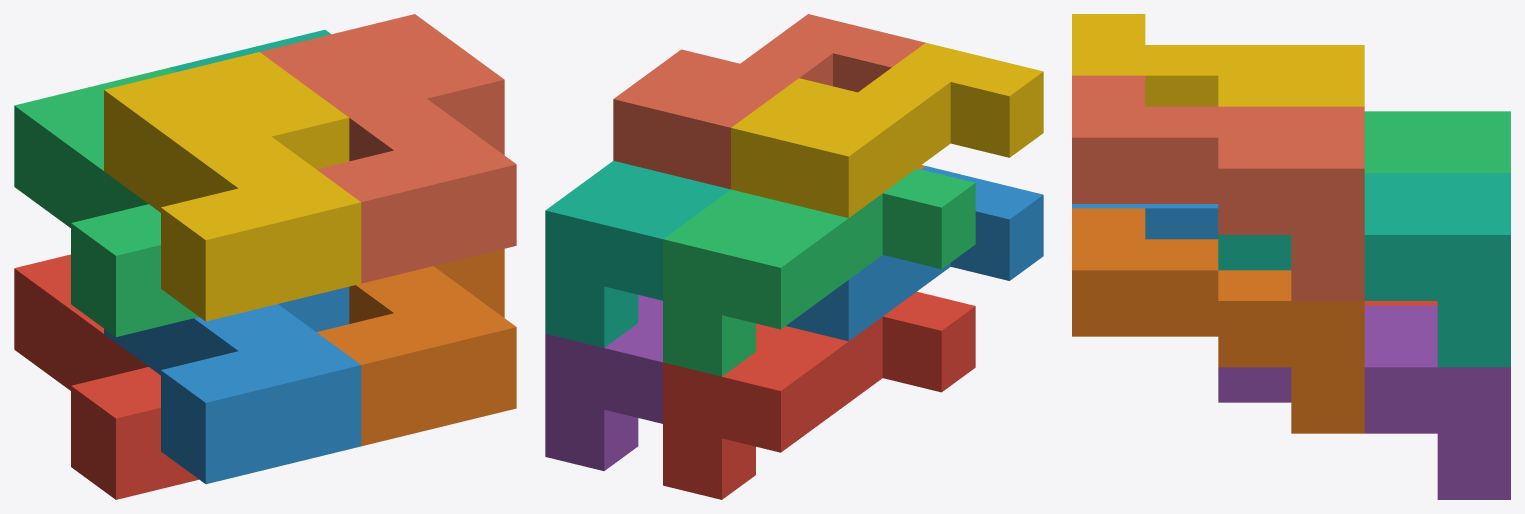
The model's file is tiling.obj.
The picture shows the model from 3 angles, left to right: view 1: azimuth 30°, elevation 25°; view 2: azimuth 150°, elevation 25°; view 3: azimuth 270°, elevation 25°; orthographic projection. The views are drawn at different scales.
Parts seen in each view (by area): view 1: copy_1_domain_4, copy_1_domain_8, copy_1_domain_2, copy_1_domain_6, copy_1_domain_3, copy_1_domain_1, copy_1_domain_7; view 2: copy_1_domain_3, copy_1_domain_4, copy_1_domain_1, copy_1_domain_8, copy_1_domain_7, copy_1_domain_5, copy_1_domain_2; view 3: copy_1_domain_8, copy_1_domain_6, copy_1_domain_7, copy_1_domain_5, copy_1_domain_4, copy_1_domain_3, copy_1_domain_2.
Part boxes in pixels (x1=…): copy_1_domain_4: x1=104, y1=52, x2=361, y2=321; copy_1_domain_8: x1=260, y1=14, x2=516, y2=283; copy_1_domain_2: x1=104, y1=286, x2=361, y2=484; copy_1_domain_6: x1=316, y1=248, x2=516, y2=446; copy_1_domain_3: x1=14, y1=67, x2=198, y2=336; copy_1_domain_1: x1=14, y1=254, x2=198, y2=499; copy_1_domain_7: x1=170, y1=29, x2=330, y2=72; copy_1_domain_3: x1=663, y1=168, x2=975, y2=376; copy_1_domain_4: x1=731, y1=43, x2=1043, y2=217; copy_1_domain_1: x1=663, y1=291, x2=975, y2=499; copy_1_domain_8: x1=613, y1=14, x2=925, y2=189; copy_1_domain_7: x1=545, y1=161, x2=730, y2=347; copy_1_domain_5: x1=545, y1=295, x2=662, y2=470; copy_1_domain_2: x1=786, y1=166, x2=1043, y2=341; copy_1_domain_8: x1=1072, y1=75, x2=1364, y2=300; copy_1_domain_6: x1=1072, y1=208, x2=1364, y2=433; copy_1_domain_7: x1=1218, y1=173, x2=1510, y2=367; copy_1_domain_5: x1=1218, y1=305, x2=1510, y2=499; copy_1_domain_4: x1=1072, y1=14, x2=1364, y2=106; copy_1_domain_3: x1=1364, y1=111, x2=1510, y2=172; copy_1_domain_2: x1=1072, y1=204, x2=1218, y2=239.
Size of the model in its own units: 5 by 5 by 6.
